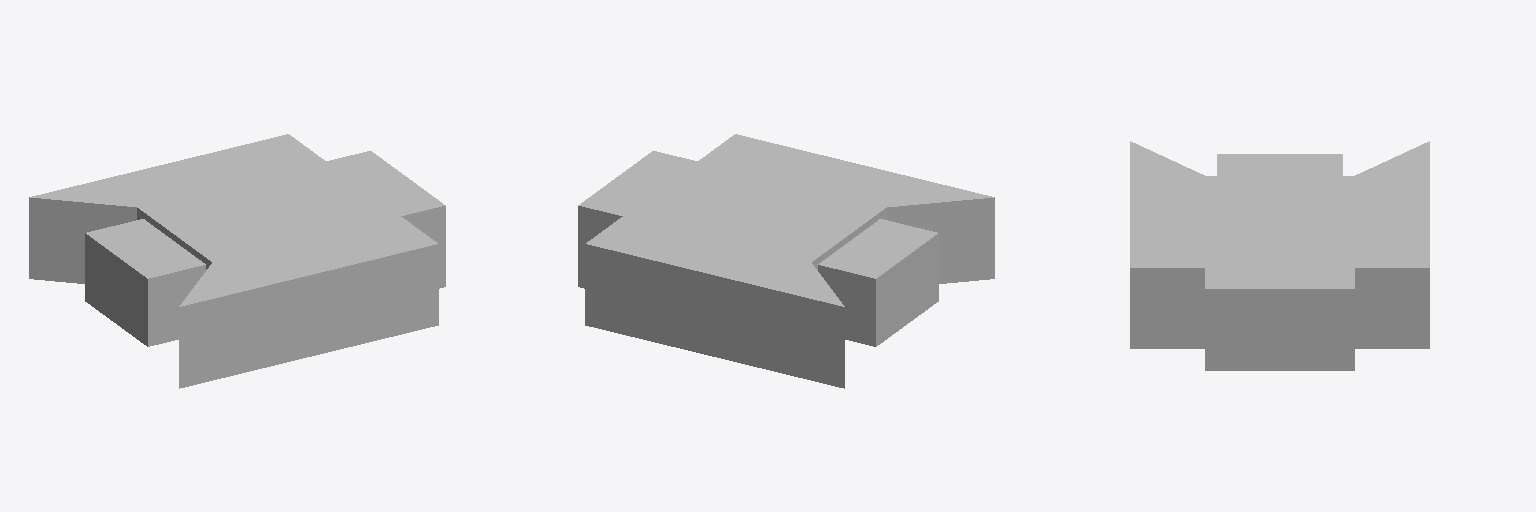
The model's file is room.obj.
The picture shows the model from 3 angles: view 1: azimuth 30°, elevation 25°; view 2: azimuth 150°, elevation 25°; view 3: azimuth 270°, elevation 25°; orthographic projection.
Visible parts, largest first — view 1: Cube; view 2: Cube; view 3: Cube.
Part boxes in pixels (left/top/right/bottom): Cube: left=29, top=134, right=445, bottom=388; Cube: left=578, top=134, right=994, bottom=388; Cube: left=1130, top=141, right=1429, bottom=370.
Size of the model in its own units: 23.43 by 6 by 20.